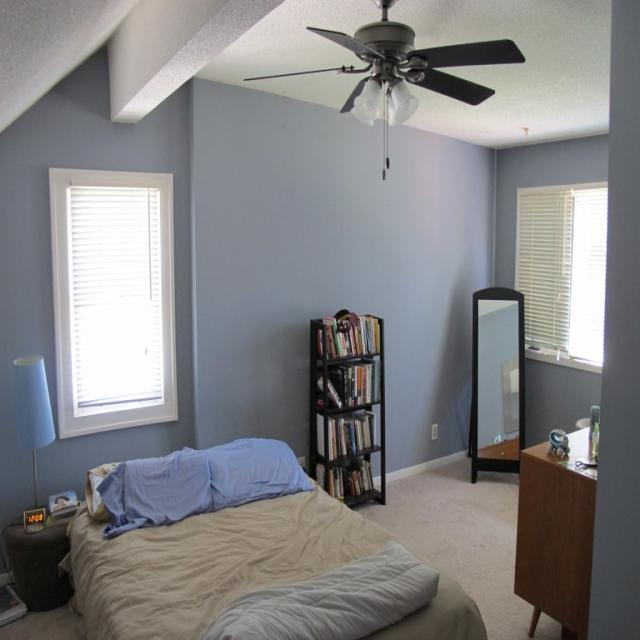bulb_off: (366, 98, 376, 113), (398, 100, 413, 109)
fan_off: (241, 0, 527, 113)
